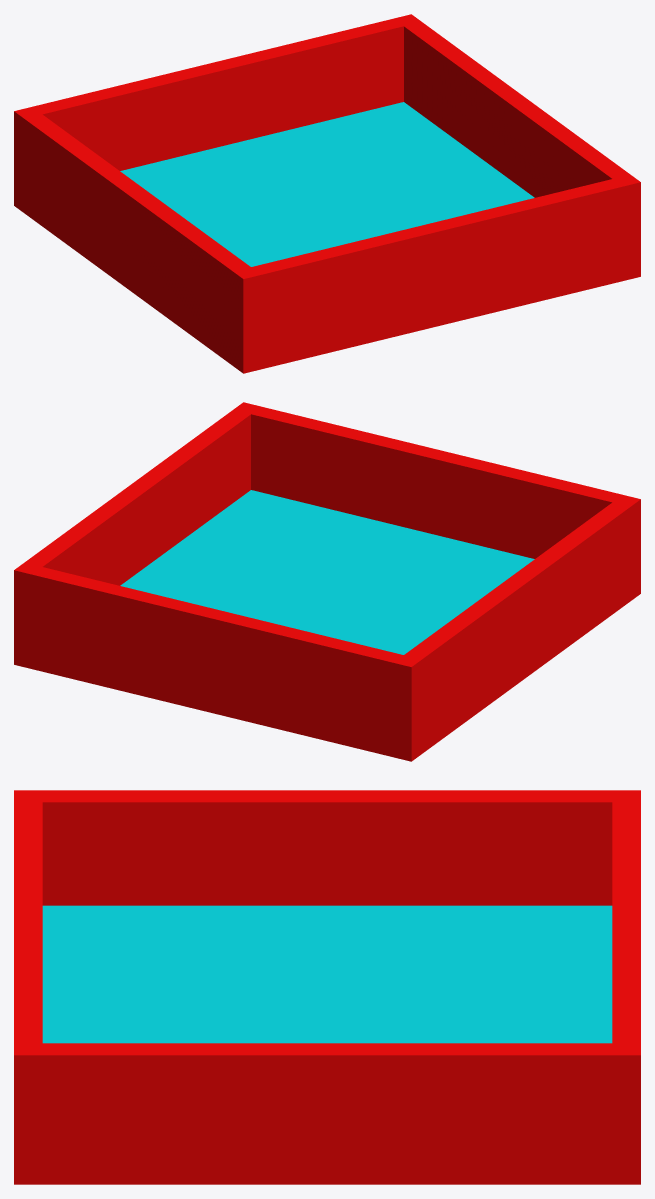
The model's file is Pool.fbx.
3 views of the same model, one above another, from view 1: azimuth 30°, elevation 25°; view 2: azimuth 150°, elevation 25°; view 3: azimuth 270°, elevation 25° (orthographic). The views are drawn at different scales.
Visible parts, largest first — view 1: Cube, Water; view 2: Cube, Water; view 3: Cube, Water.
Boxes of the visible parts, bbox=[...] form: Cube: bbox=[14, 14, 640, 373]; Water: bbox=[120, 102, 534, 266]; Cube: bbox=[14, 402, 640, 761]; Water: bbox=[120, 490, 534, 654]; Cube: bbox=[14, 790, 640, 1184]; Water: bbox=[42, 905, 612, 1043].
Bounding box in the file's own units: 220 × 50 × 220.
